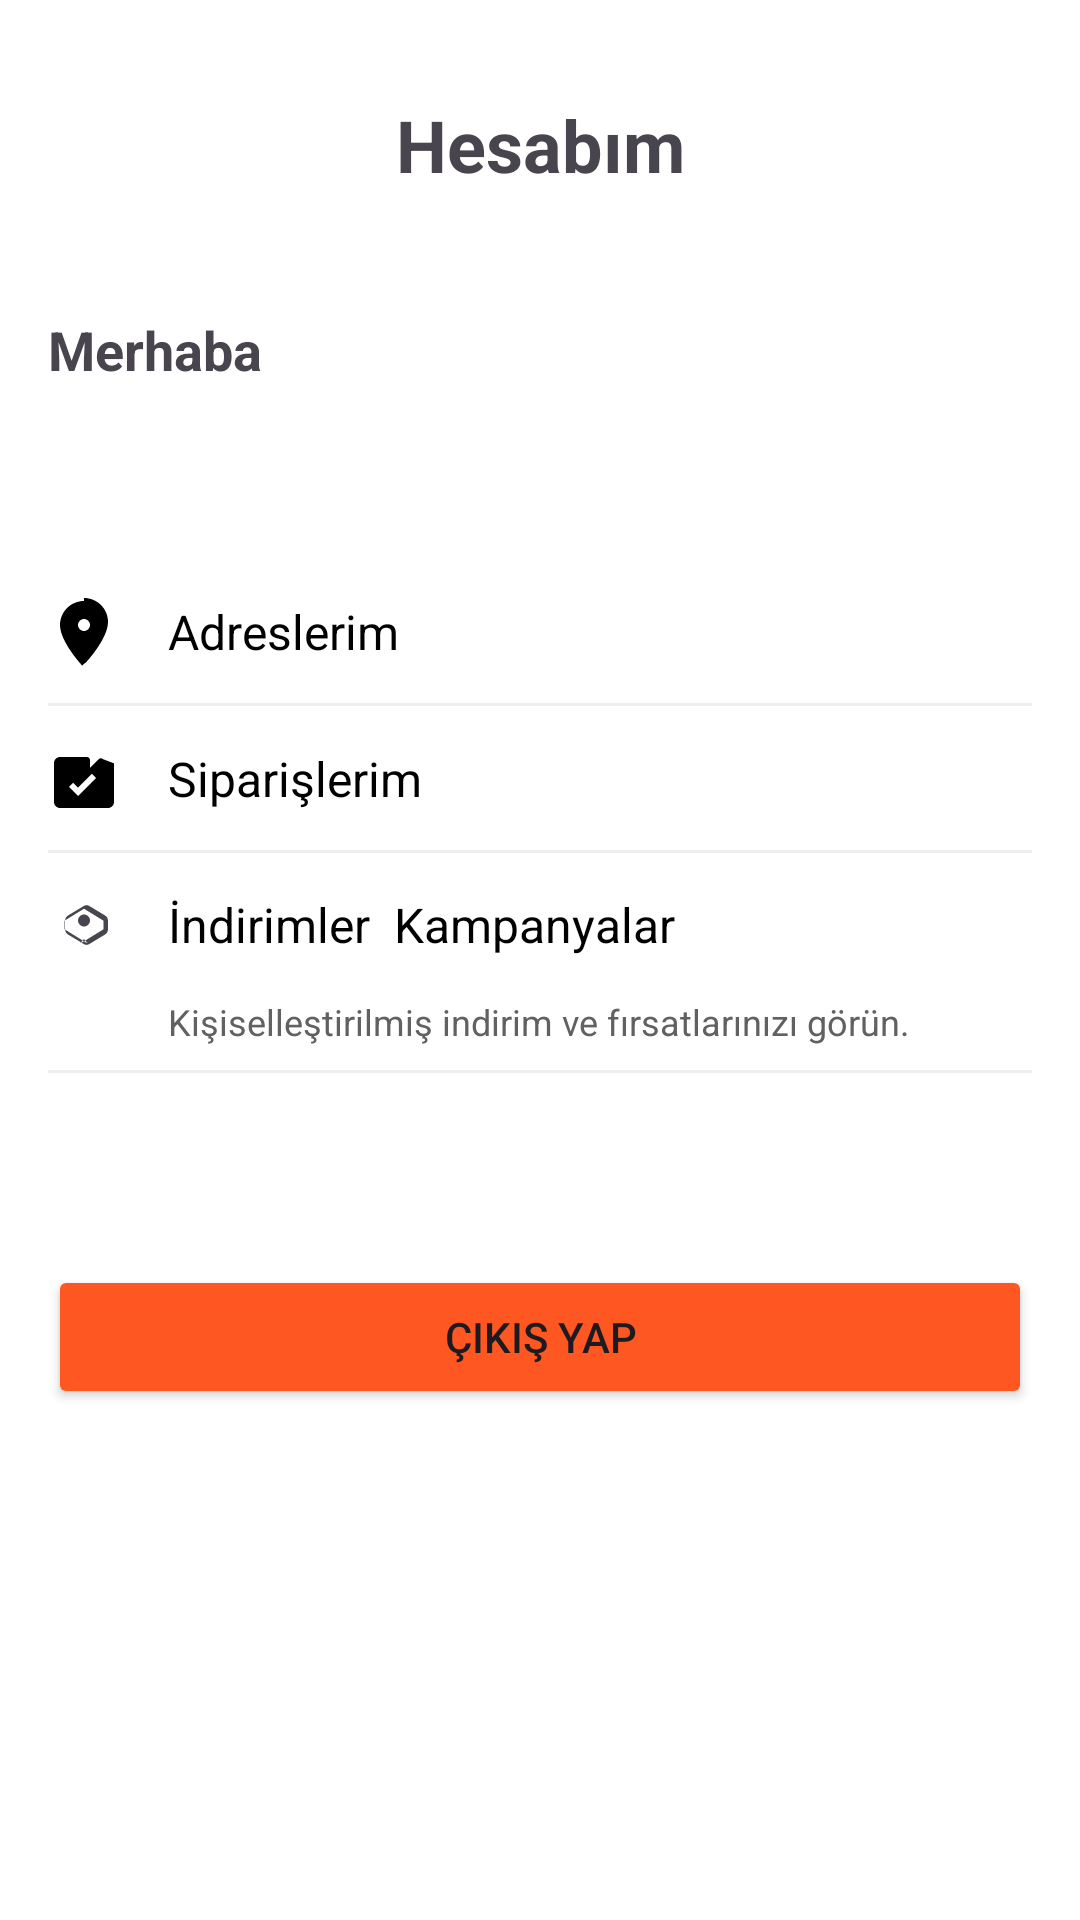

Named icons in this screenshot (1080 x 1920) and their centers, (x,y):
Adresler Ikonu: (84,632)
İndirim Ikonu: (86,925)
Siparişler Ikonu: (84,782)
